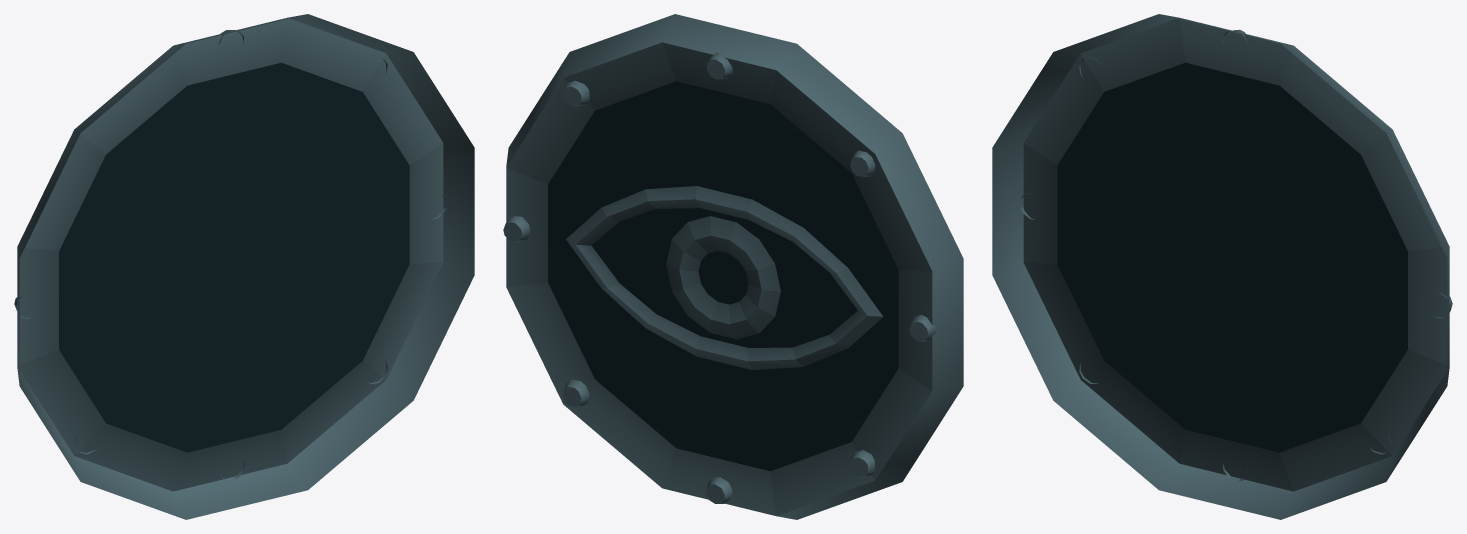
Rendered from obj_shield_A_LOW.FBX.
3 renders of one model, left to right at view 1: azimuth 30°, elevation 25°; view 2: azimuth 150°, elevation 25°; view 3: azimuth 330°, elevation 25°, orthographic.
Parts seen in each view (by area): view 1: obj_shield_A_LOW; view 2: obj_shield_A_LOW; view 3: obj_shield_A_LOW.
Boxes of the visible parts, x1,y1,x2,y2 form: obj_shield_A_LOW: [14, 14, 474, 519]; obj_shield_A_LOW: [503, 14, 963, 519]; obj_shield_A_LOW: [992, 14, 1452, 519].
Size of the model in its own units: 1.84 by 1.84 by 0.1427.
